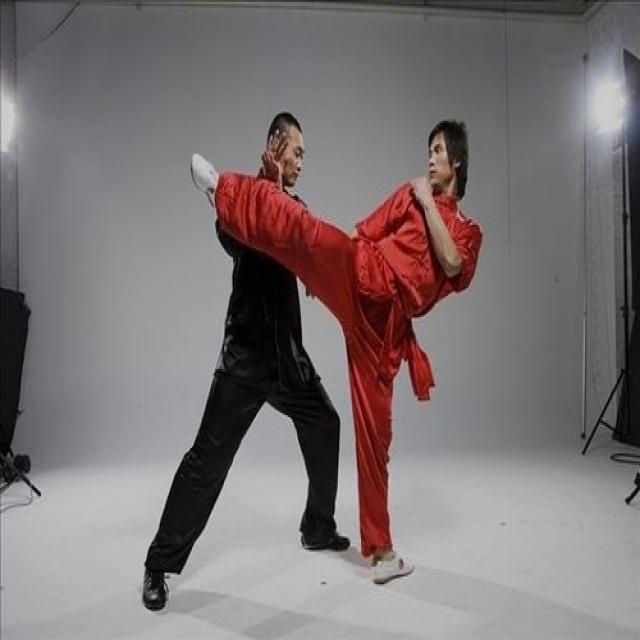fight: (138, 90, 484, 614)
